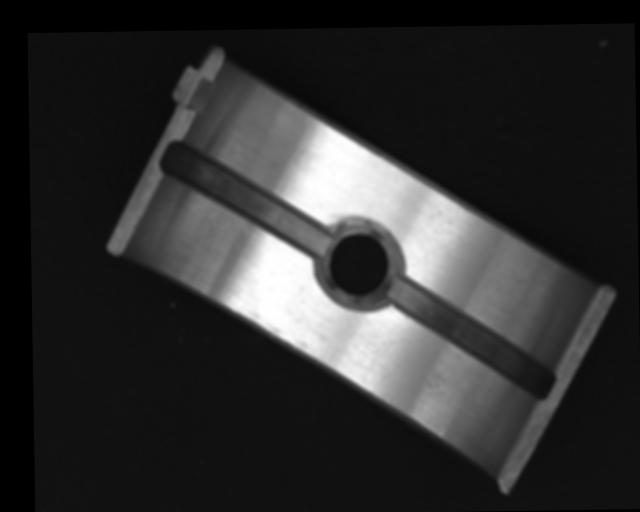gap: (385, 276, 556, 400), (162, 138, 328, 259)
hole: (320, 223, 400, 307)
